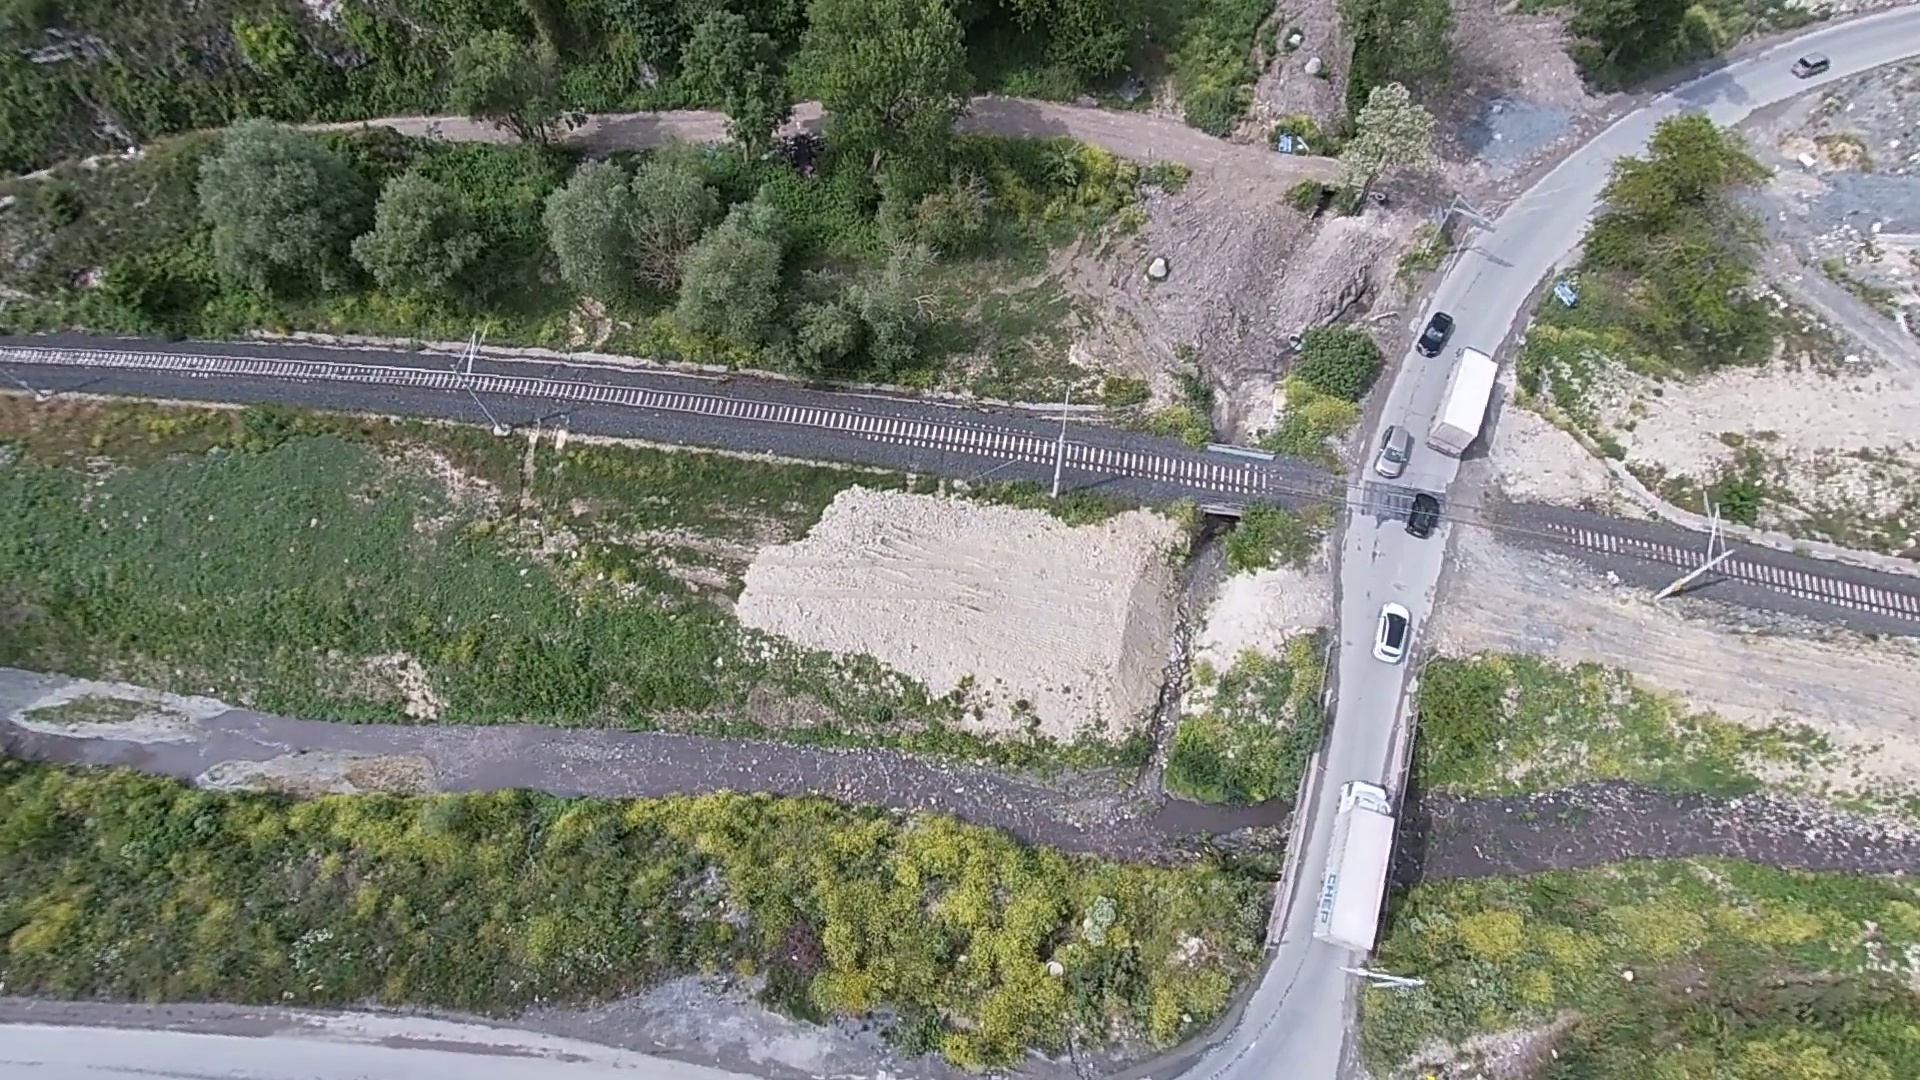araba: (1411, 489, 1453, 556), (1375, 422, 1422, 480), (1366, 597, 1406, 665), (1414, 305, 1453, 357), (1787, 53, 1833, 84)
kamyon: (1302, 760, 1396, 963), (1429, 345, 1495, 473)
